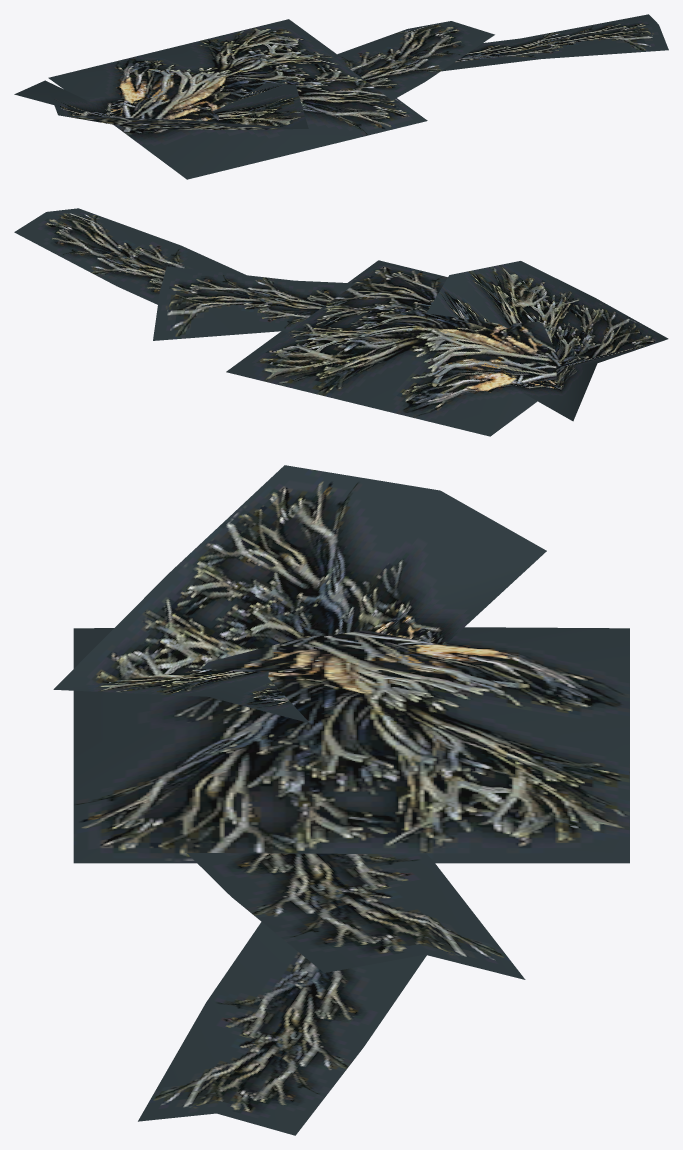
File: shor_seaweed_clump_l0.fbx
3 views of the same model, one above another, from view 1: azimuth 30°, elevation 25°; view 2: azimuth 150°, elevation 25°; view 3: azimuth 270°, elevation 25° (orthographic). The views are drawn at different scales.
Visible parts, largest first — view 1: mesh_node; view 2: mesh_node; view 3: mesh_node.
Boxes of the visible parts, box(x1,y1,x2,y2) form: mesh_node: box(14, 14, 668, 179); mesh_node: box(14, 208, 668, 436); mesh_node: box(53, 465, 629, 1135).
Bounding box in the file's own units: 2.91 × 0.2706 × 1.23.
